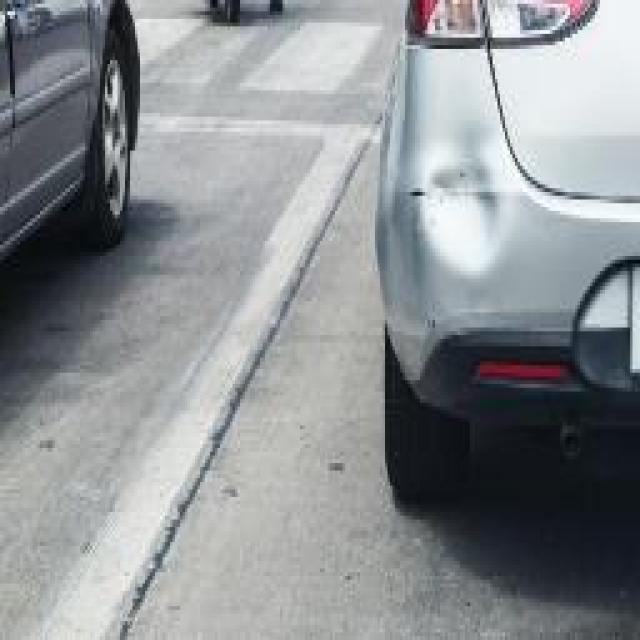Bumper: (408, 105, 512, 309)
